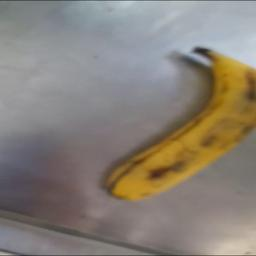Banana Semirotten: (109, 34, 256, 207)
